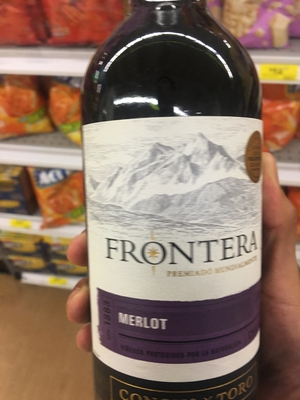frontera merlot: (62, 5, 276, 400)
